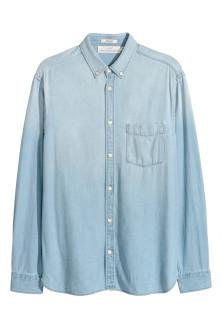teeshirt: (9, 32, 215, 298)
